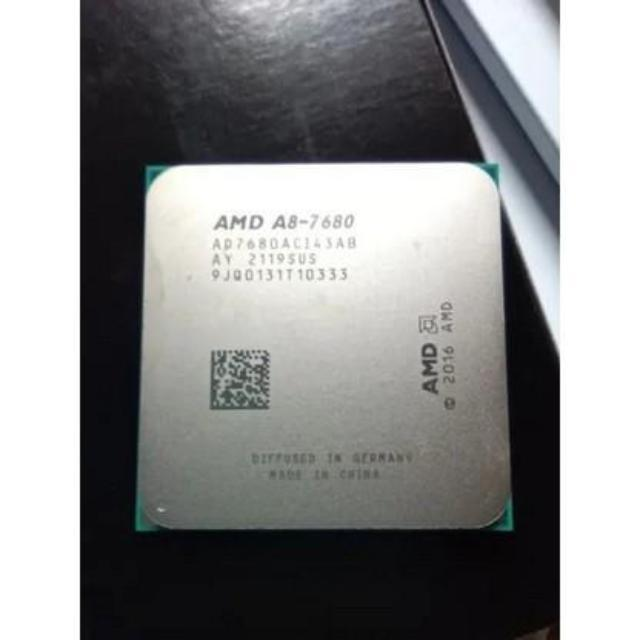CPU: (146, 166, 509, 531)
